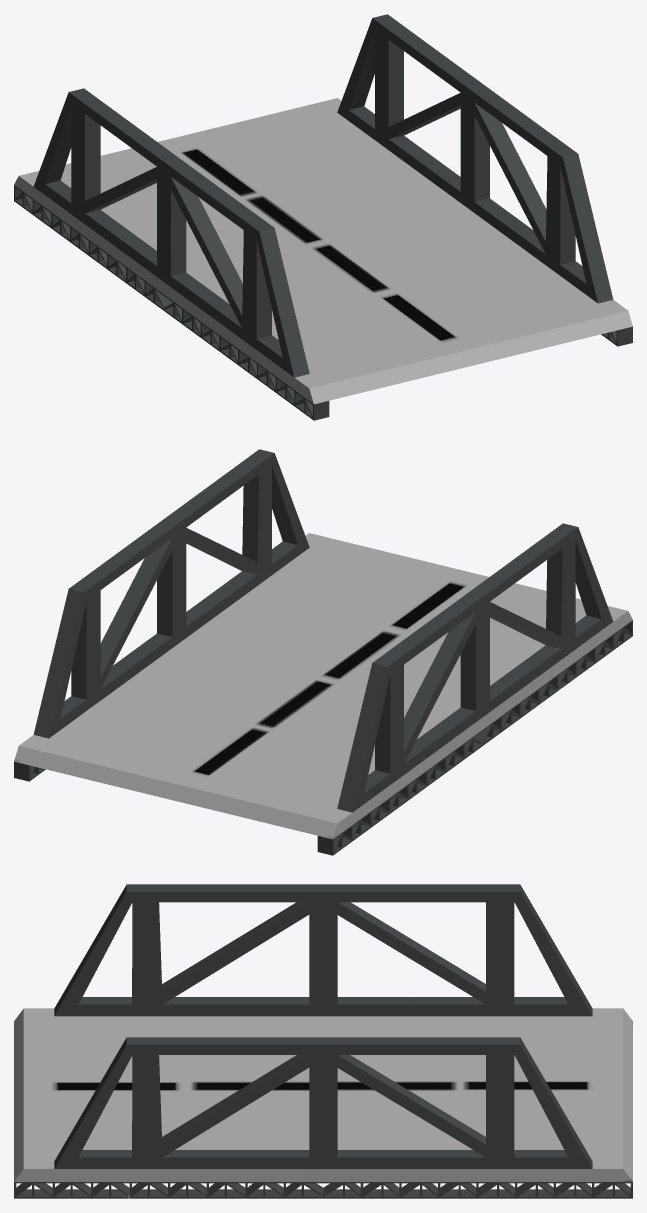
File: Bridge.fbx
3 views of the same model, one above another, from view 1: azimuth 30°, elevation 25°; view 2: azimuth 150°, elevation 25°; view 3: azimuth 270°, elevation 25° (orthographic). The views are drawn at different scales.
Parts seen in each view (by area): view 1: Main_Bridge, Upper_Supoort_Left, Upper_SUpport_Right, Lower_Support_Right; view 2: Main_Bridge, Upper_SUpport_Right, Upper_Supoort_Left, Lower_Support_Right; view 3: Main_Bridge, Upper_Supoort_Left, Upper_SUpport_Right, Lower_Support_Left.
Boxes of the visible parts, x1=… form: Main_Bridge: x1=14, y1=98, x2=632, y2=404; Upper_Supoort_Left: x1=33, y1=88, x2=309, y2=377; Upper_SUpport_Right: x1=337, y1=14, x2=613, y2=303; Lower_Support_Right: x1=14, y1=185, x2=329, y2=420; Main_Bridge: x1=14, y1=533, x2=632, y2=839; Upper_SUpport_Right: x1=33, y1=449, x2=309, y2=738; Upper_Supoort_Left: x1=337, y1=523, x2=613, y2=812; Lower_Support_Right: x1=317, y1=620, x2=632, y2=855; Main_Bridge: x1=14, y1=1008, x2=632, y2=1181; Upper_Supoort_Left: x1=54, y1=884, x2=592, y2=1016; Upper_SUpport_Right: x1=54, y1=1037, x2=592, y2=1168; Lower_Support_Left: x1=14, y1=1182, x2=632, y2=1198.
Size of the model in its own units: 0.2684 by 0.1198 by 0.4371.
Materials: 1 (1 with a texture image).
